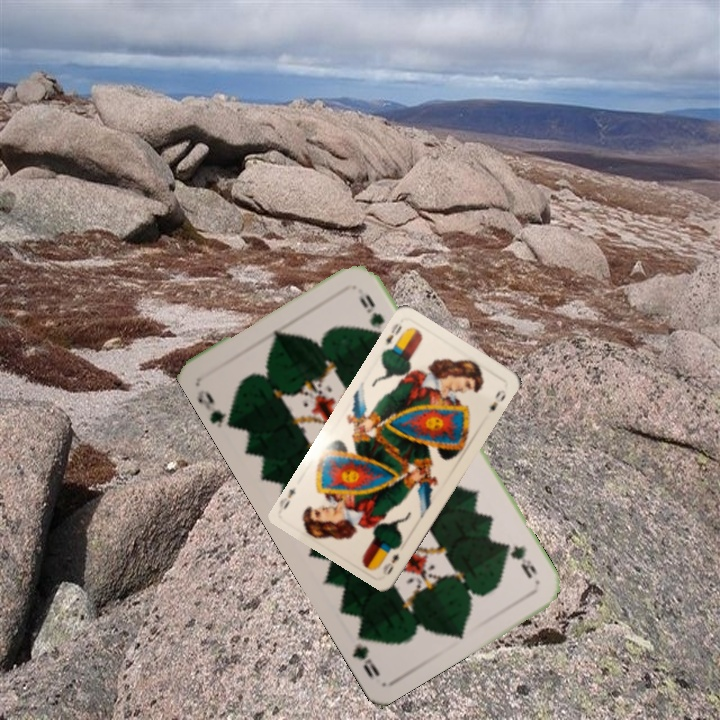EO: (380, 319, 410, 354), (378, 549, 402, 578)
G9: (193, 385, 235, 430), (500, 538, 540, 581)
